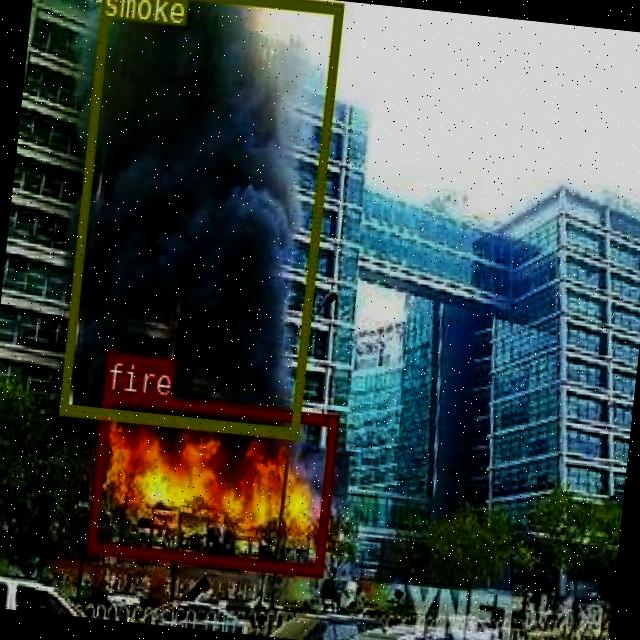fire: (86, 390, 338, 574)
smoke: (57, 0, 340, 437)
